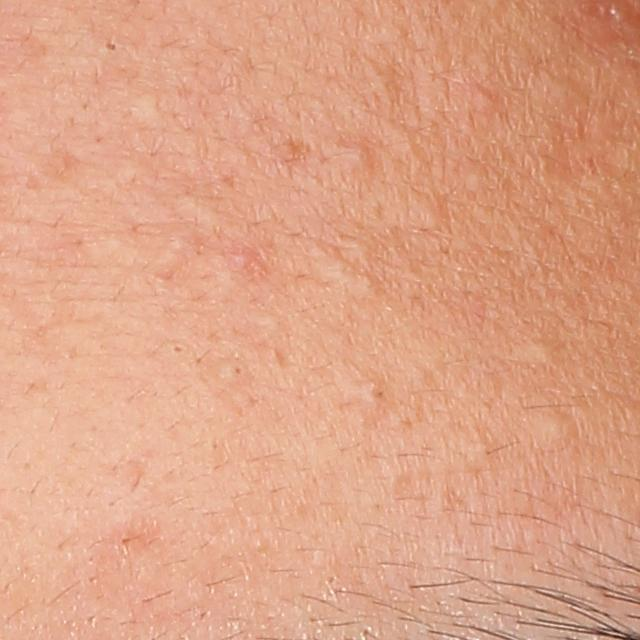comedo: (529, 408, 583, 451), (346, 139, 377, 170), (524, 339, 559, 365), (468, 86, 497, 113), (357, 378, 380, 408), (100, 35, 122, 56), (225, 364, 251, 381), (168, 340, 191, 358)
